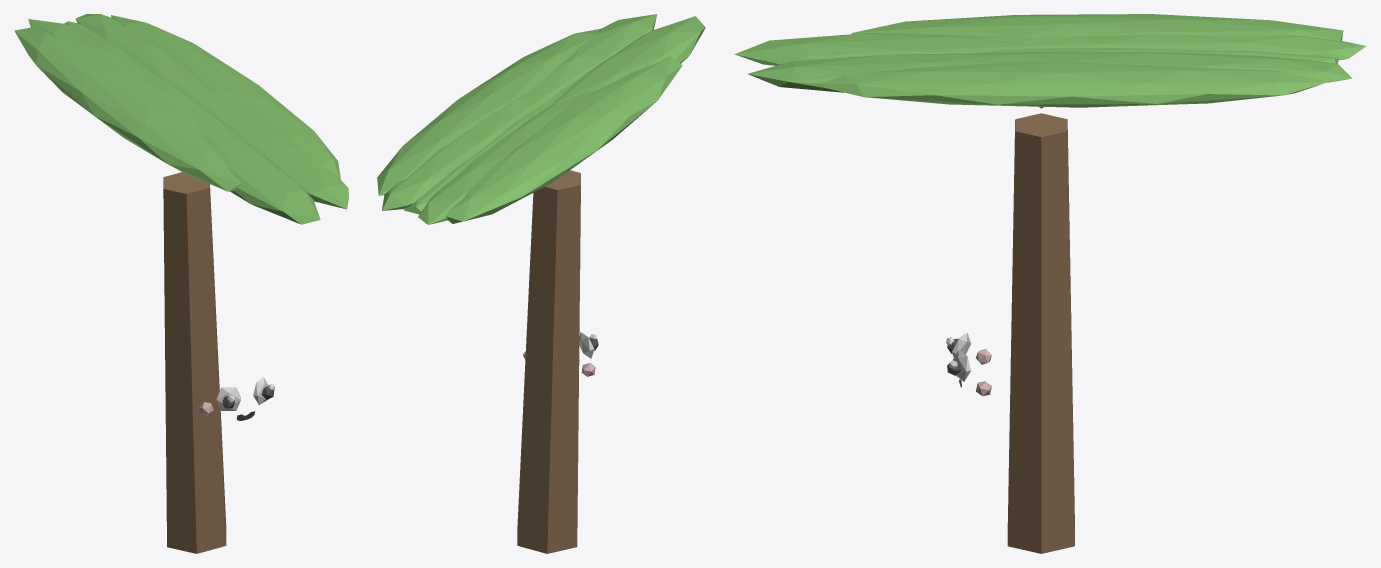
File: licuala-grandis.glb
The picture shows the model from 3 angles, left to right: view 1: azimuth 30°, elevation 25°; view 2: azimuth 150°, elevation 25°; view 3: azimuth 270°, elevation 25°; orthographic projection. The views are drawn at different scales.
Visible parts, largest first — view 1: trunk, frond3, frond0, frond2, frond6, frond1, frond4, frond5; view 2: trunk, frond3, frond0, frond6, frond2, frond4, frond1, frond5; view 3: trunk, frond0, frond3, frond2, frond4, frond6, frond1, frond5.
Boxes of the visible parts, x1,y1,x2,y2 form: trunk: [163, 172, 226, 553]; frond3: [14, 27, 241, 191]; frond0: [111, 15, 340, 179]; frond2: [191, 109, 320, 224]; frond6: [75, 14, 240, 124]; frond1: [222, 116, 348, 209]; frond4: [28, 19, 200, 132]; frond5: [64, 21, 228, 130]; trunk: [517, 170, 580, 553]; frond3: [445, 56, 682, 223]; frond0: [377, 28, 600, 195]; frond6: [381, 82, 563, 210]; frond2: [551, 16, 705, 105]; frond4: [418, 90, 596, 224]; frond1: [542, 14, 657, 87]; frond5: [404, 83, 573, 214]; trunk: [1007, 113, 1074, 553]; frond0: [814, 62, 1327, 107]; frond3: [851, 14, 1343, 41]; frond2: [734, 32, 1041, 65]; frond4: [983, 34, 1366, 60]; frond6: [992, 52, 1351, 82]; frond1: [748, 53, 997, 92]; frond5: [976, 48, 1338, 63].
Size of the model in its own units: 0.2292 by 0.6297 by 0.7309.
